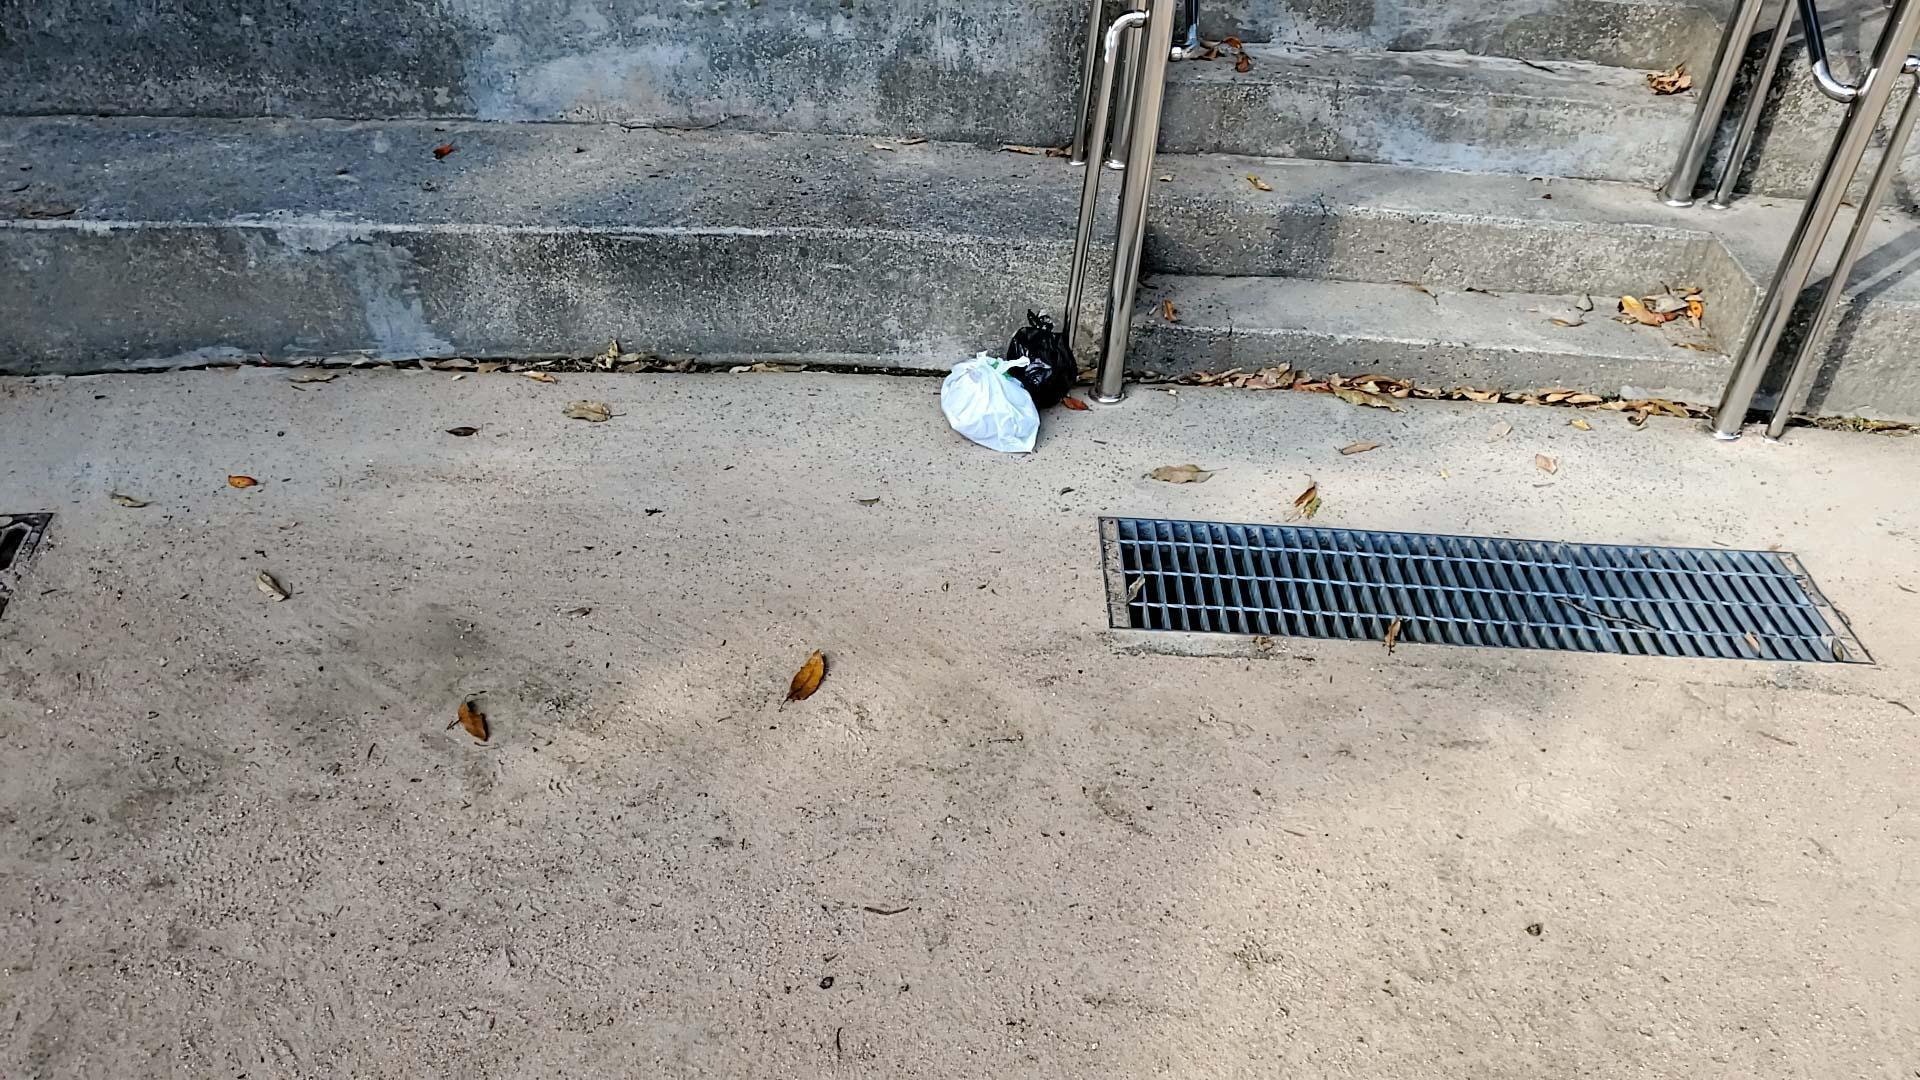black_bag: (1005, 307, 1081, 409)
white_bag: (938, 344, 1042, 455)
